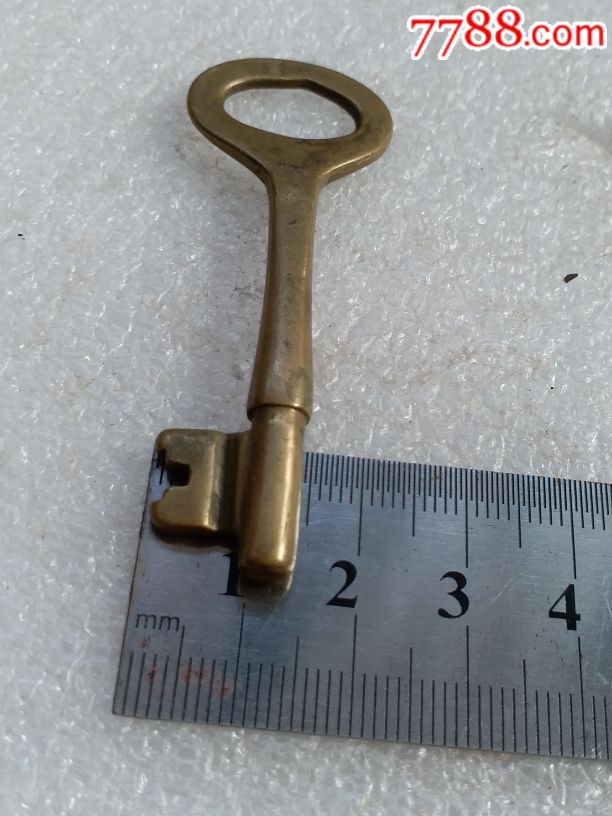key: (118, 37, 422, 623)
